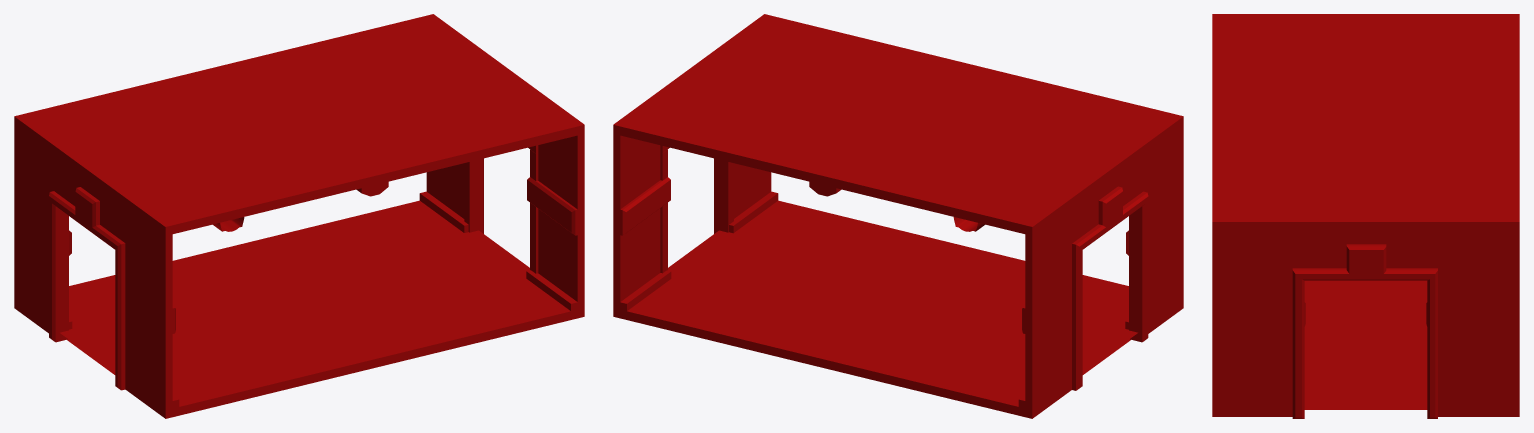
File: PasilloPuetas.fbx
The picture shows the model from 3 angles, left to right: view 1: azimuth 30°, elevation 25°; view 2: azimuth 150°, elevation 25°; view 3: azimuth 270°, elevation 25°; orthographic projection.
Visible parts, largest first — view 1: PasilloPuertas2; view 2: PasilloPuertas2; view 3: PasilloPuertas2.
Boxes of the visible parts, <box> form: PasilloPuertas2: <box>14,14,584,418</box>; PasilloPuertas2: <box>613,14,1183,418</box>; PasilloPuertas2: <box>1212,14,1519,418</box>.
Size of the model in its own units: 1648 by 700 by 1000.
